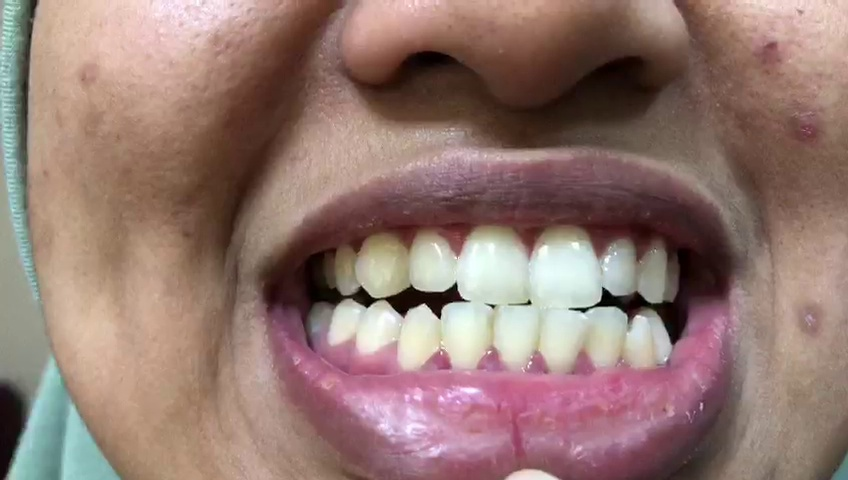1st Molar: (302, 302, 332, 341)
1st Premolar: (356, 302, 403, 357), (331, 237, 357, 299), (643, 311, 670, 368), (667, 248, 681, 302)
2nd Premolar: (328, 294, 364, 350)
Canine: (356, 234, 411, 298), (398, 301, 441, 374), (637, 238, 664, 305), (625, 314, 656, 372)
Central Incisor: (530, 223, 601, 310), (455, 226, 533, 305), (493, 305, 540, 372), (541, 309, 589, 372)
Lateral Incisor: (443, 298, 493, 374), (407, 230, 456, 292), (584, 303, 627, 371), (601, 237, 638, 298)
